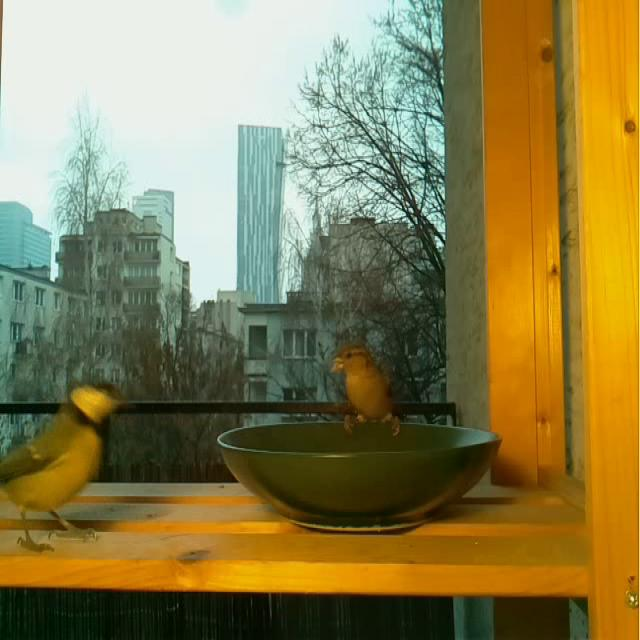Bogatka: (1, 372, 128, 559)
Wrobel: (330, 344, 404, 436)
